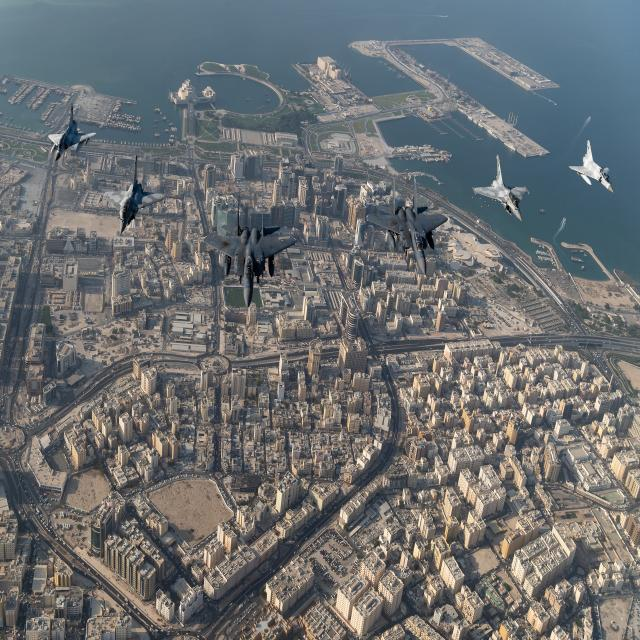MIL_Plane: (203, 193, 297, 309), (366, 176, 448, 276), (100, 156, 167, 232), (472, 154, 531, 222), (47, 102, 97, 162), (568, 140, 614, 193)
